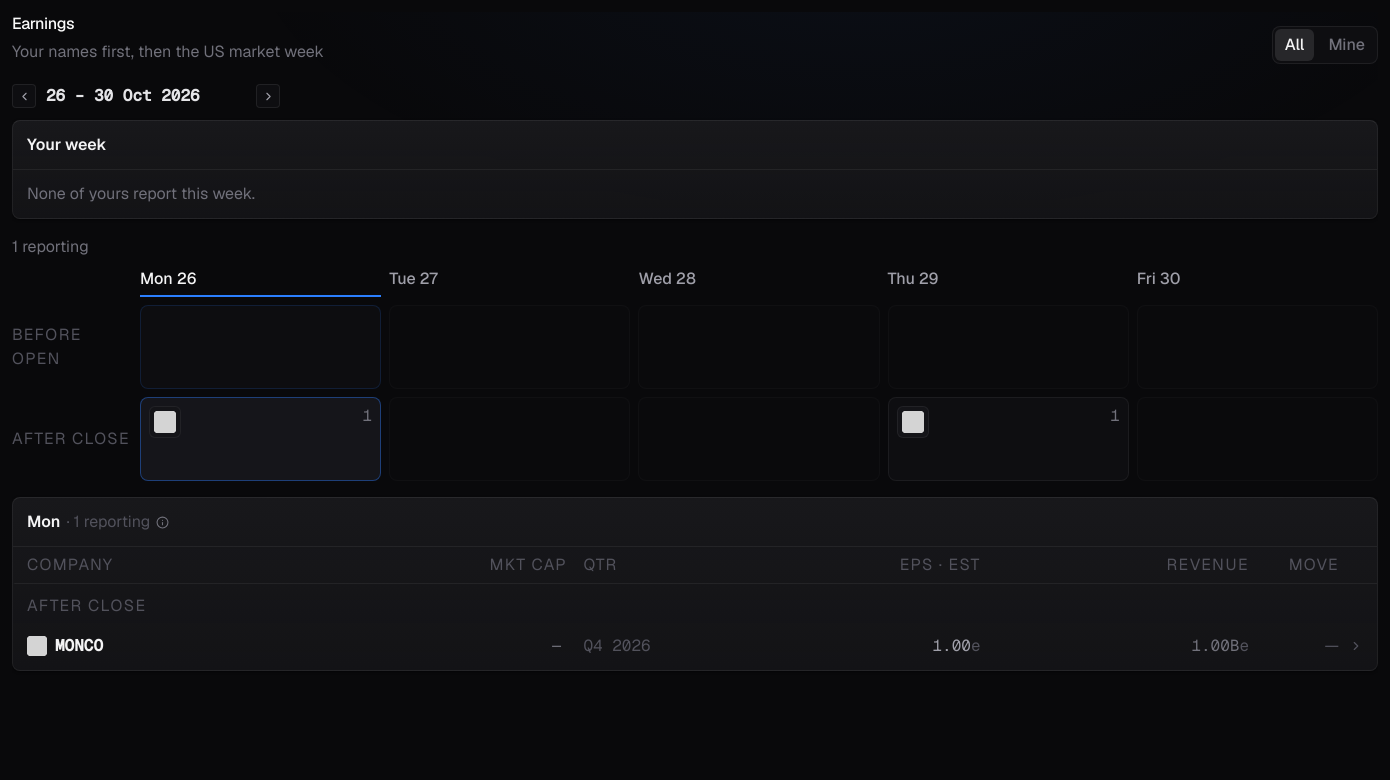
Test: Earnings page › a grid day header switches the day list to that day
Expected: the text "THUCO" is not shown
Click the button "Thu 29".
click(1008, 282)  # box top-left (888, 267), bottom-right (1129, 297)
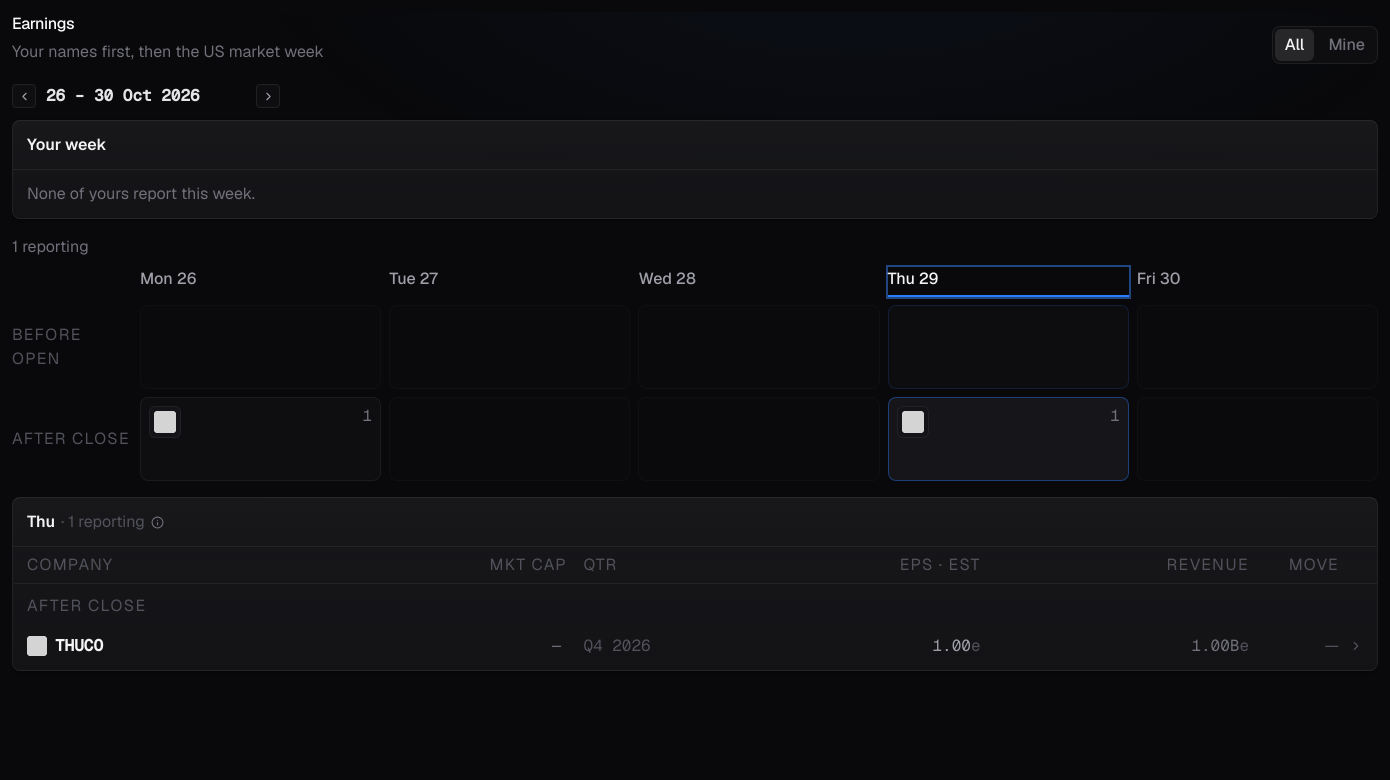
Result: the text "THUCO" is shown at top-left (55, 636), bottom-right (103, 656)
Result: the button "MONCO" is gone
